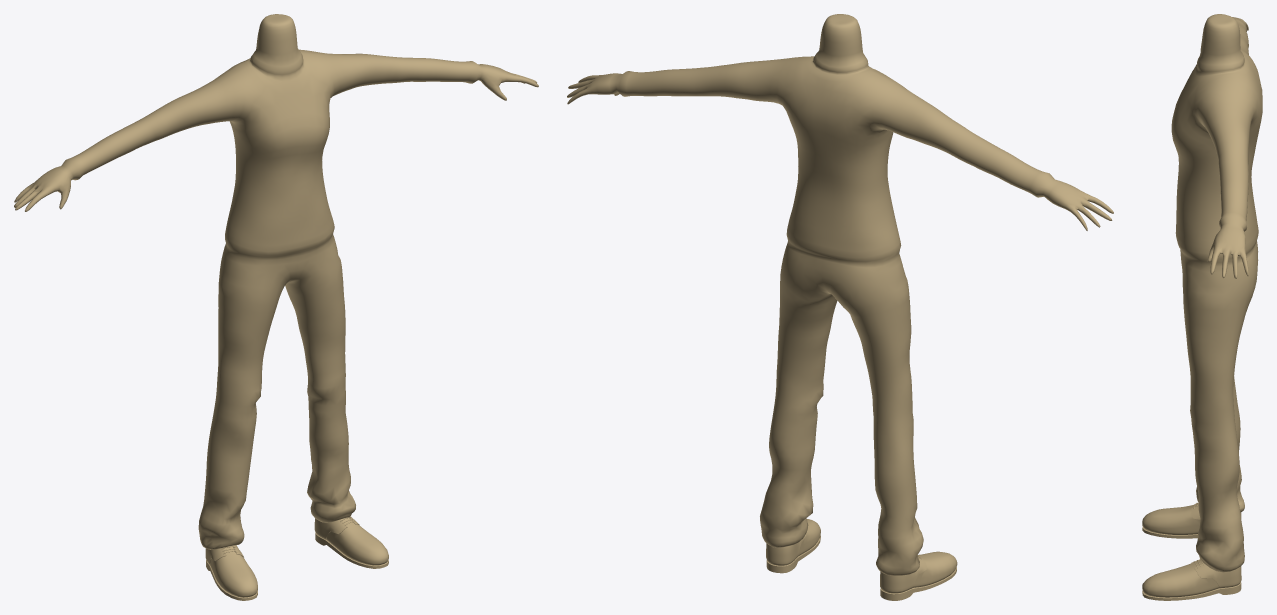
The model's file is SM_FemaleBody.fbx.
3 views of the same model, side by side, from view 1: azimuth 30°, elevation 25°; view 2: azimuth 150°, elevation 25°; view 3: azimuth 270°, elevation 25° (orthographic). The views are drawn at different scales.
Parts seen in each view (by area): view 1: sadsafsf; view 2: sadsafsf; view 3: sadsafsf.
Boxes of the visible parts, x1,y1,x2,y2 form: sadsafsf: (14,14,538,600); sadsafsf: (567,14,1113,600); sadsafsf: (1142,14,1262,600).
Size of the model in its own units: 63.37 by 62.3 by 12.54.
